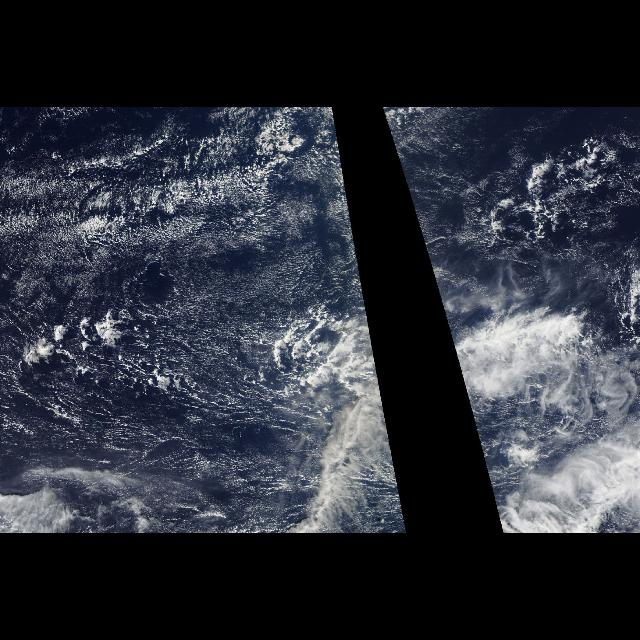Gravel: (9, 282, 353, 403), (462, 114, 634, 266)
Sugar: (4, 118, 368, 476), (401, 163, 504, 321)
